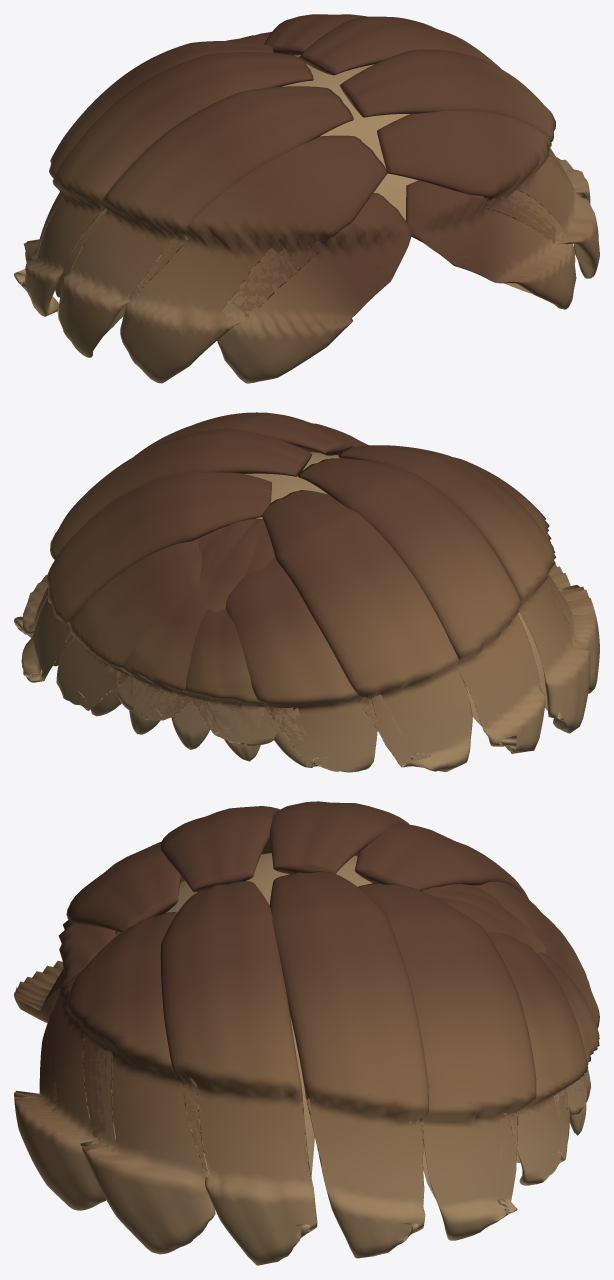
Rendered from Masculine-middle-part-headband261-hair-ombre.glb.
The picture shows the model from 3 angles, top to bottom: view 1: azimuth 30°, elevation 25°; view 2: azimuth 150°, elevation 25°; view 3: azimuth 270°, elevation 25°; orthographic projection. The views are drawn at different scales.
Parts seen in each view (by area): view 1: 226 hair / Hair260 / layered middle-part; view 2: 226 hair / Hair260 / layered middle-part; view 3: 226 hair / Hair260 / layered middle-part.
Part boxes in pixels (x1,y1,x2,y2): 226 hair / Hair260 / layered middle-part: [14, 14, 599, 383]; 226 hair / Hair260 / layered middle-part: [14, 412, 599, 772]; 226 hair / Hair260 / layered middle-part: [14, 801, 599, 1265].
Size of the model in its own units: 1.03 by 0.4519 by 0.8714.
